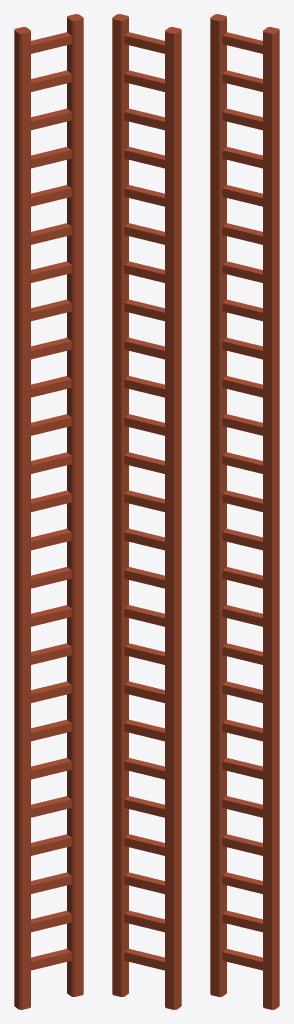
Rendered from Ladder.fbx.
3 renders of one model, left to right at view 1: azimuth 30°, elevation 25°; view 2: azimuth 150°, elevation 25°; view 3: azimuth 330°, elevation 25°, orthographic.
Parts seen in each view (by area): view 1: mergedBlocks; view 2: mergedBlocks; view 3: mergedBlocks.
Part boxes in pixels (x1,y1,x2,y2): mergedBlocks: (14,14,83,1009); mergedBlocks: (112,14,181,1009); mergedBlocks: (210,14,279,1009).
Size of the model in its own units: 3.2 by 46 by 0.6.
